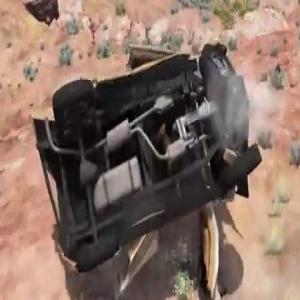severe: (32, 36, 259, 274)
